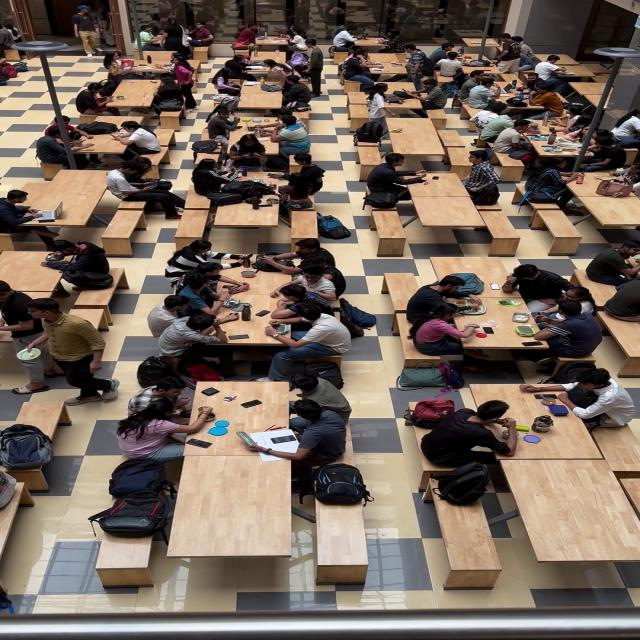Occupied: (471, 376, 607, 453), (179, 372, 292, 450), (250, 391, 346, 467), (88, 451, 177, 532), (524, 361, 634, 423), (191, 361, 284, 433), (419, 394, 515, 460), (115, 389, 207, 454), (40, 285, 130, 346), (10, 166, 108, 217), (18, 161, 108, 215), (400, 302, 488, 354), (564, 169, 640, 229), (102, 154, 184, 209), (440, 306, 548, 344), (528, 316, 600, 372), (73, 109, 171, 148), (145, 286, 232, 328), (268, 307, 344, 352), (169, 258, 249, 300), (164, 231, 247, 271), (41, 234, 111, 281), (521, 151, 583, 204), (288, 377, 342, 435), (36, 111, 97, 162), (365, 144, 428, 193), (127, 371, 194, 417), (404, 270, 474, 312), (126, 380, 184, 428), (309, 456, 372, 499), (428, 454, 489, 498), (500, 256, 570, 294), (98, 66, 156, 109), (292, 349, 354, 389), (0, 417, 54, 462), (585, 238, 640, 282), (0, 285, 50, 333), (273, 230, 339, 266), (107, 470, 164, 511), (103, 437, 171, 471), (131, 44, 203, 76), (273, 146, 324, 191), (190, 150, 247, 190), (338, 74, 378, 130), (226, 108, 286, 145), (461, 144, 502, 196), (274, 266, 330, 304), (0, 184, 47, 229), (577, 127, 629, 167), (268, 108, 310, 148), (451, 49, 516, 74), (491, 112, 538, 146), (204, 98, 242, 138), (498, 28, 538, 66), (404, 392, 454, 422), (236, 74, 284, 105), (521, 78, 576, 105), (73, 75, 116, 108), (136, 351, 178, 384), (534, 49, 573, 84), (70, 0, 98, 46), (396, 356, 445, 382), (294, 366, 338, 394), (545, 354, 596, 378), (607, 102, 640, 138), (496, 95, 558, 114), (372, 74, 423, 96), (337, 300, 374, 330), (100, 44, 134, 75), (278, 70, 311, 101), (460, 63, 496, 91), (301, 32, 323, 77), (62, 264, 114, 283), (443, 266, 484, 290), (220, 46, 255, 74), (316, 207, 352, 233), (224, 174, 273, 191), (364, 43, 407, 62), (434, 43, 464, 70), (136, 16, 164, 44), (436, 356, 465, 383), (467, 177, 500, 199), (526, 180, 565, 198), (354, 114, 384, 136), (338, 49, 369, 70), (188, 13, 212, 40), (362, 184, 397, 202), (233, 15, 259, 39), (0, 14, 22, 42), (204, 184, 242, 200), (332, 17, 356, 42), (74, 114, 116, 128), (409, 45, 434, 67), (508, 134, 534, 154), (352, 31, 390, 44), (262, 146, 288, 164), (579, 407, 601, 427), (153, 89, 182, 104), (563, 94, 590, 107), (283, 93, 311, 105), (284, 190, 312, 202), (523, 41, 541, 59), (440, 74, 460, 90), (219, 88, 240, 102), (421, 91, 445, 103), (378, 86, 404, 96)
Unoccupied: (165, 446, 292, 552), (507, 455, 625, 554), (424, 504, 502, 582), (310, 499, 368, 578), (494, 126, 579, 174), (95, 520, 157, 580), (428, 250, 518, 284), (0, 248, 67, 289), (589, 415, 640, 465), (210, 191, 280, 227), (532, 208, 584, 252), (413, 187, 485, 218), (475, 201, 523, 247), (99, 204, 147, 248), (12, 393, 71, 428), (370, 202, 408, 248), (173, 198, 215, 234), (388, 125, 447, 148), (384, 267, 424, 298), (458, 31, 508, 54), (289, 202, 317, 240), (436, 123, 466, 154), (567, 78, 619, 93), (355, 134, 385, 158), (143, 42, 177, 59), (156, 103, 180, 127), (460, 30, 501, 39)
